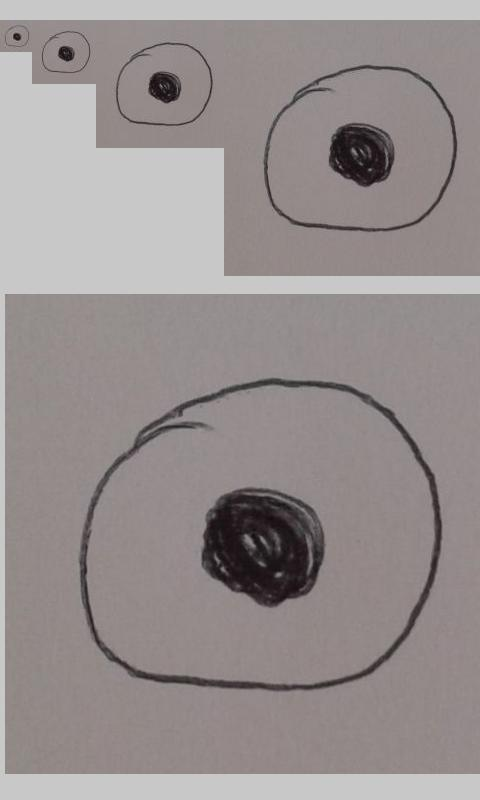radio_button: (77, 376, 445, 695), (262, 63, 459, 235), (115, 41, 214, 127), (41, 30, 91, 74), (3, 24, 30, 48)
